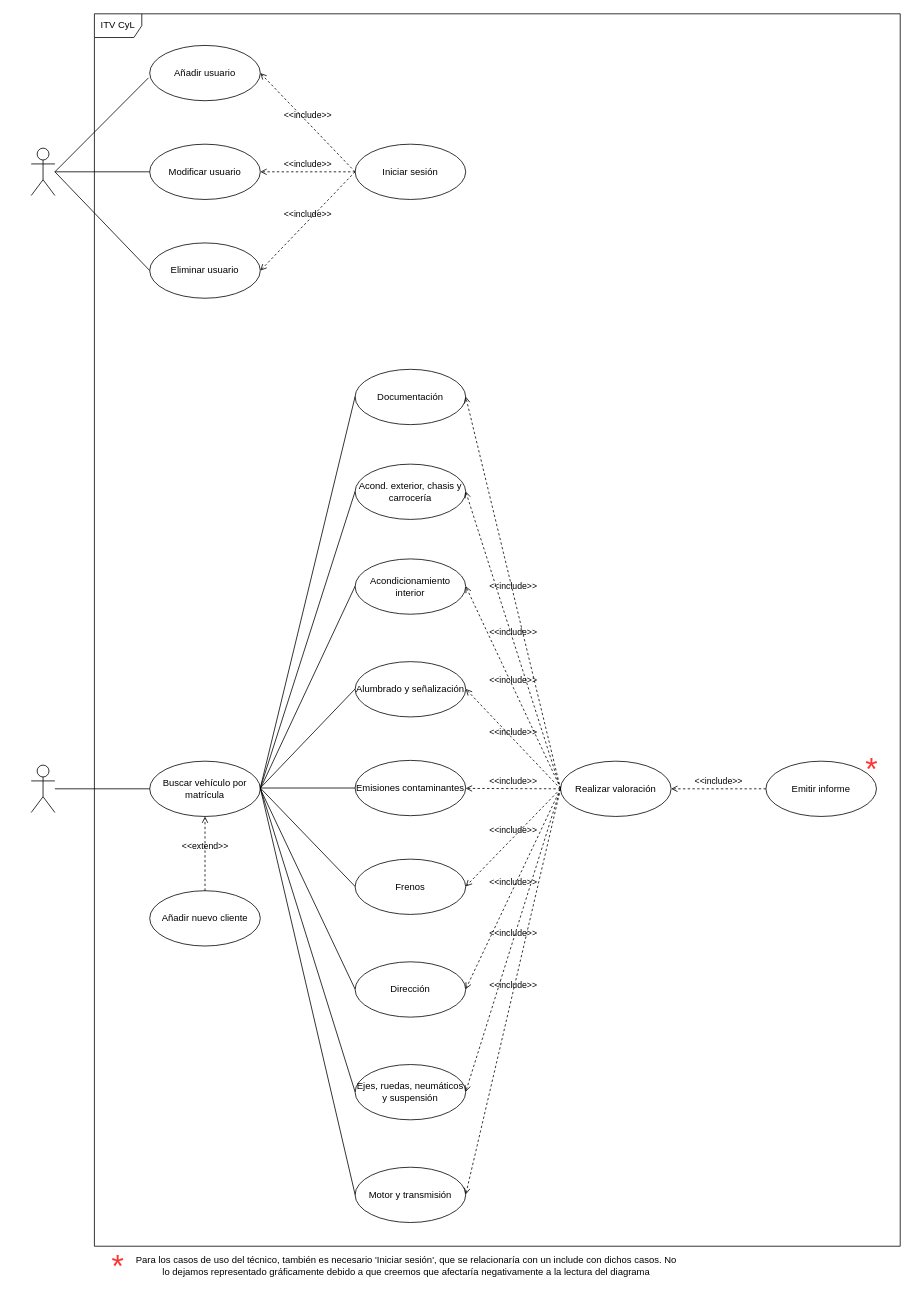
The diagram is 914 pixels wide and 1299 high, and some of its shapes have lost their labels. Here are the shapes that lost their labels. From the top down, the centre of each, then its label:
At (x=42, y=171): "Administrador".
At (x=42, y=788): "Técnico".
